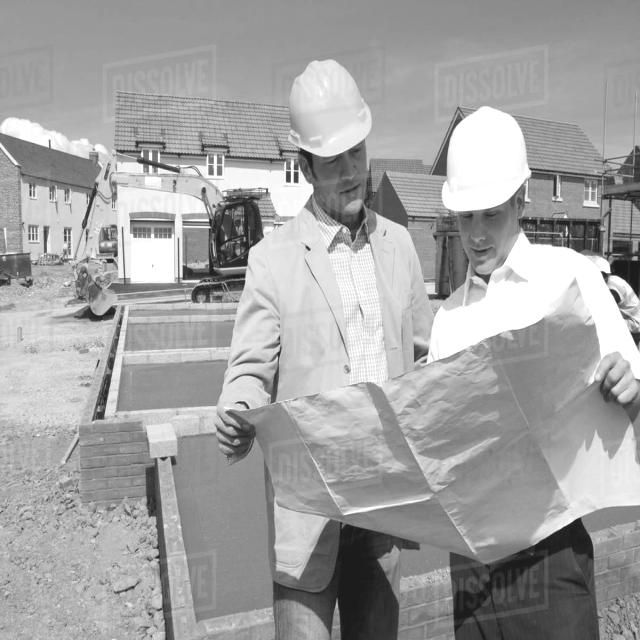face_nomask: (308, 136, 375, 228), (454, 189, 524, 275)
hand_noglove: (598, 350, 640, 428), (214, 393, 248, 458)
head_helmet: (429, 100, 539, 211), (284, 56, 378, 157)
person: (432, 115, 591, 628), (277, 62, 401, 640), (583, 247, 640, 343)
vest: (609, 279, 640, 330)
